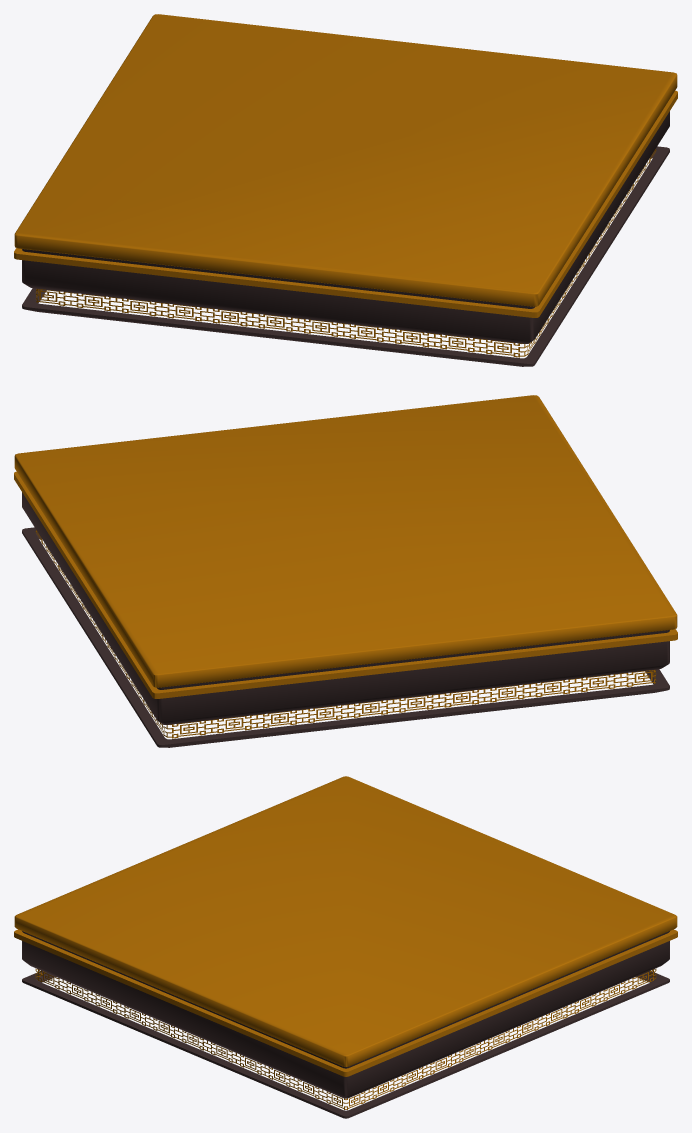
File: Feature Base Diamond Big.fbx
3 renders of one model, top to bottom at view 1: azimuth 30°, elevation 25°; view 2: azimuth 150°, elevation 25°; view 3: azimuth 270°, elevation 25°, orthographic. The views are drawn at different scales.
Parts seen in each view (by area): view 1: Feature Base Diamond Big; view 2: Feature Base Diamond Big; view 3: Feature Base Diamond Big.
Part boxes in pixels (x1=…): Feature Base Diamond Big: x1=14, y1=14, x2=677, y2=366; Feature Base Diamond Big: x1=14, y1=395, x2=677, y2=747; Feature Base Diamond Big: x1=14, y1=776, x2=677, y2=1118.
Size of the model in its own units: 1020 by 120 by 1020.
